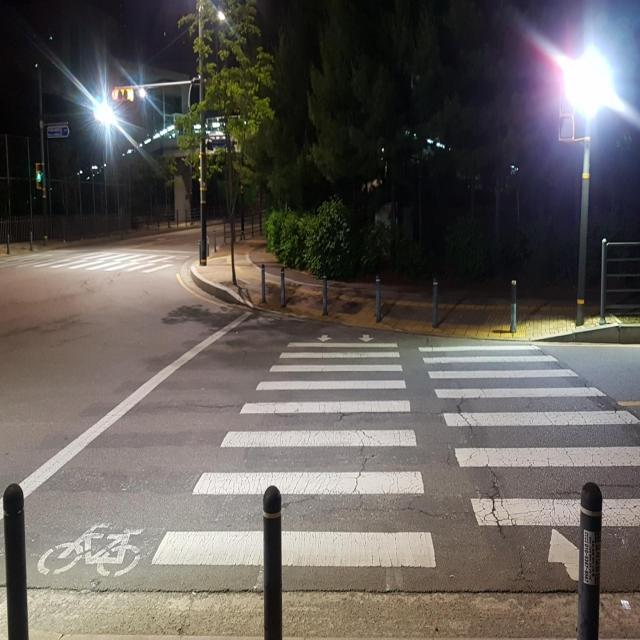횡단보도: (149, 332, 640, 584), (0, 252, 180, 303)
